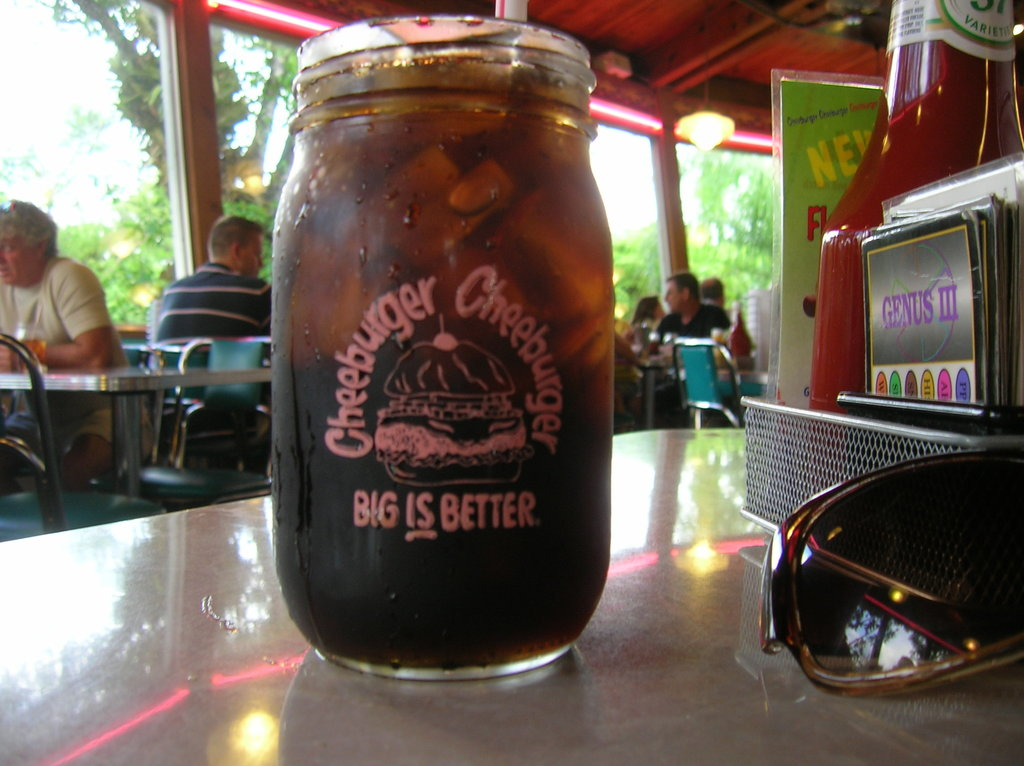Beer: (19, 334, 45, 375)
